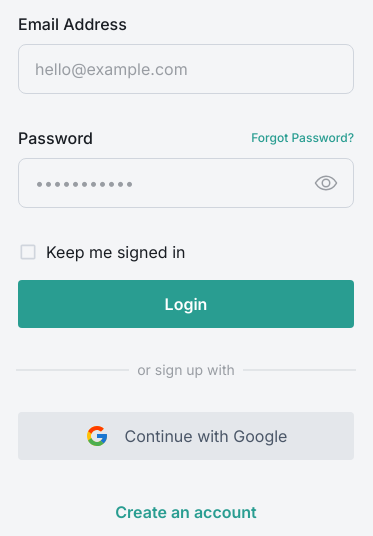
Test case: Login › toggles checked state on checkbox click
Step 1. Click the button named "checkbox" → (28, 252), box [18,242,38,262]
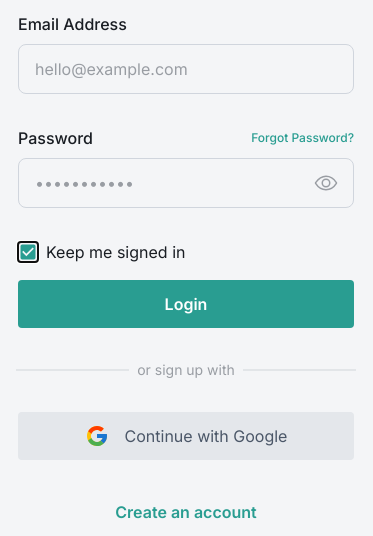
Now the icon next to "Keep me signed in" is shown, box [18,242,38,262]
Now the icon is gone
